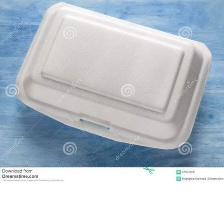foam_box: (9, 0, 217, 152)
